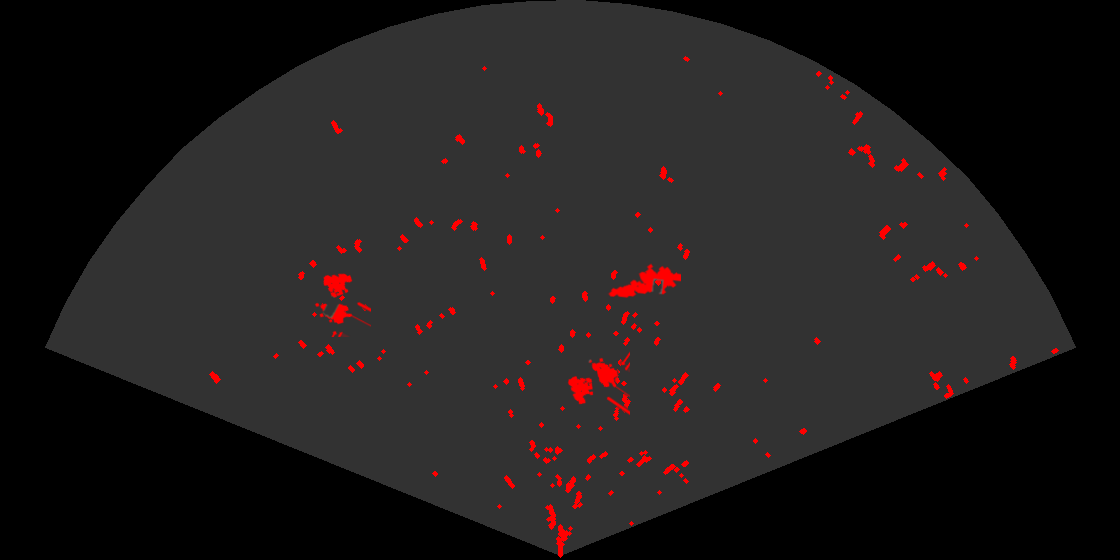cage: (566, 350, 630, 417), (313, 272, 371, 337)
frogman: (607, 262, 681, 300)
